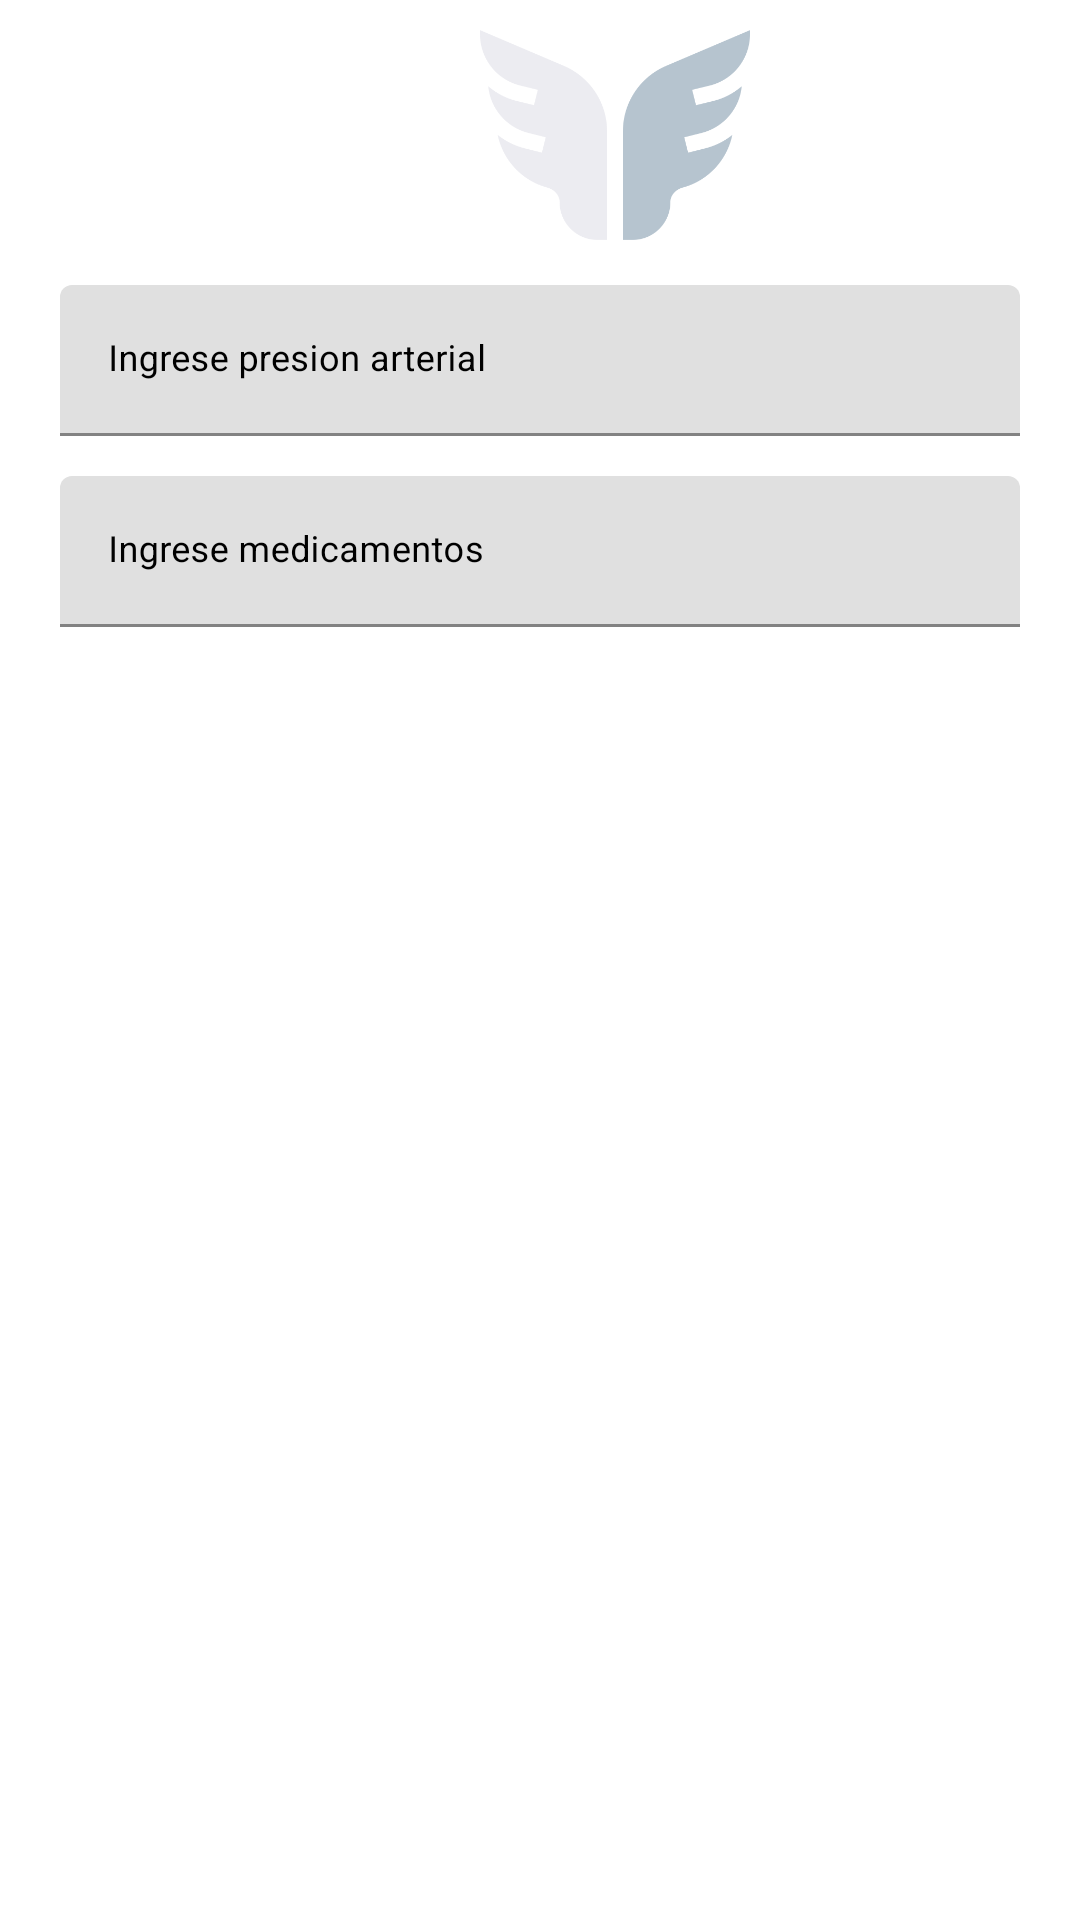

Where to tap for icons on this 1080 x 1920 app screen, as (x=x, y=y):
alas: (x=686, y=135)
